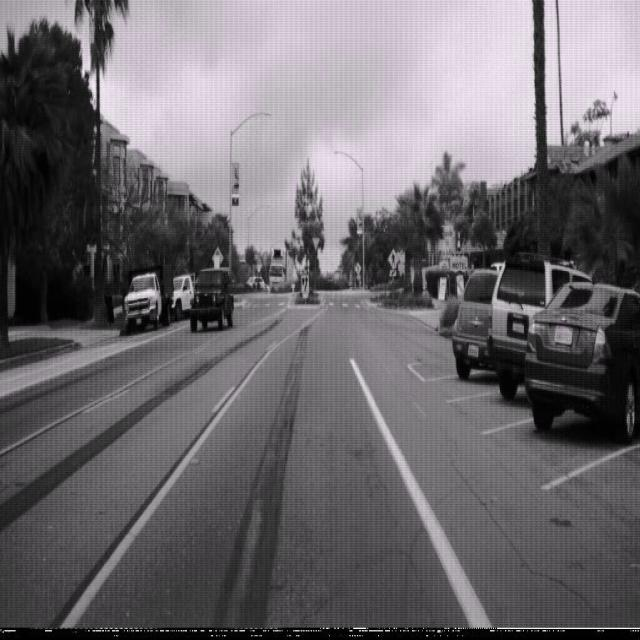pedestrianCrossing: (387, 246, 399, 271)
yield: (312, 234, 320, 252)
